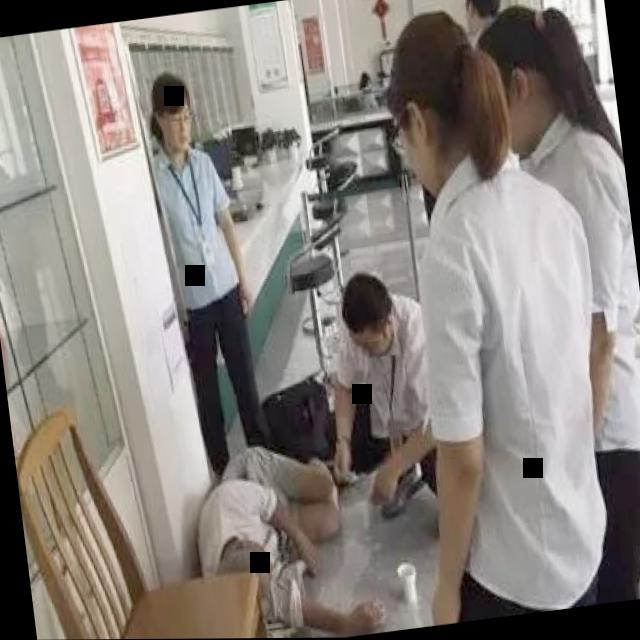Fall-Detected: (161, 405, 387, 639)
